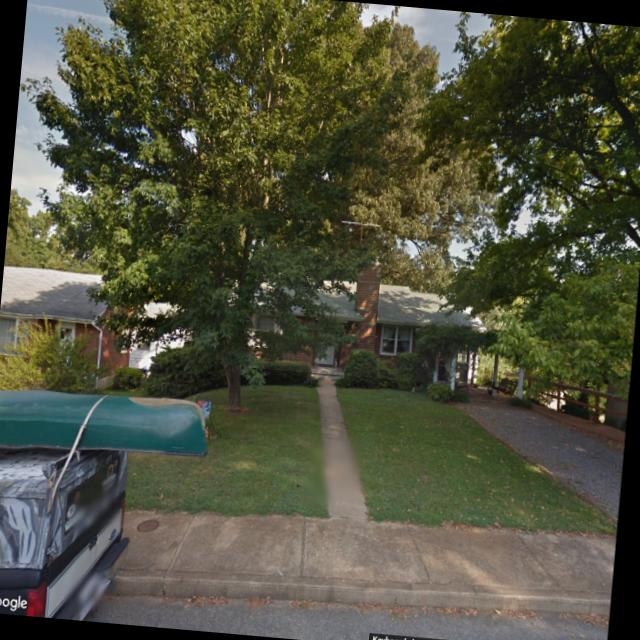House: (248, 242, 492, 388), (0, 263, 191, 379)
